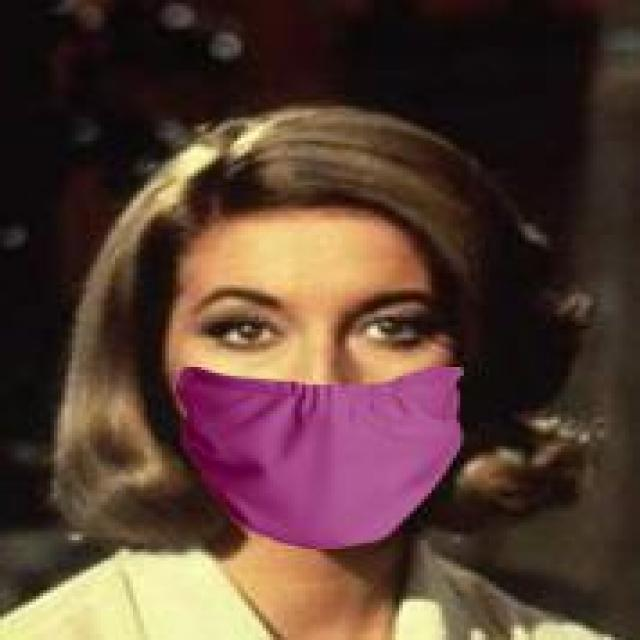mask: (119, 100, 536, 590)
